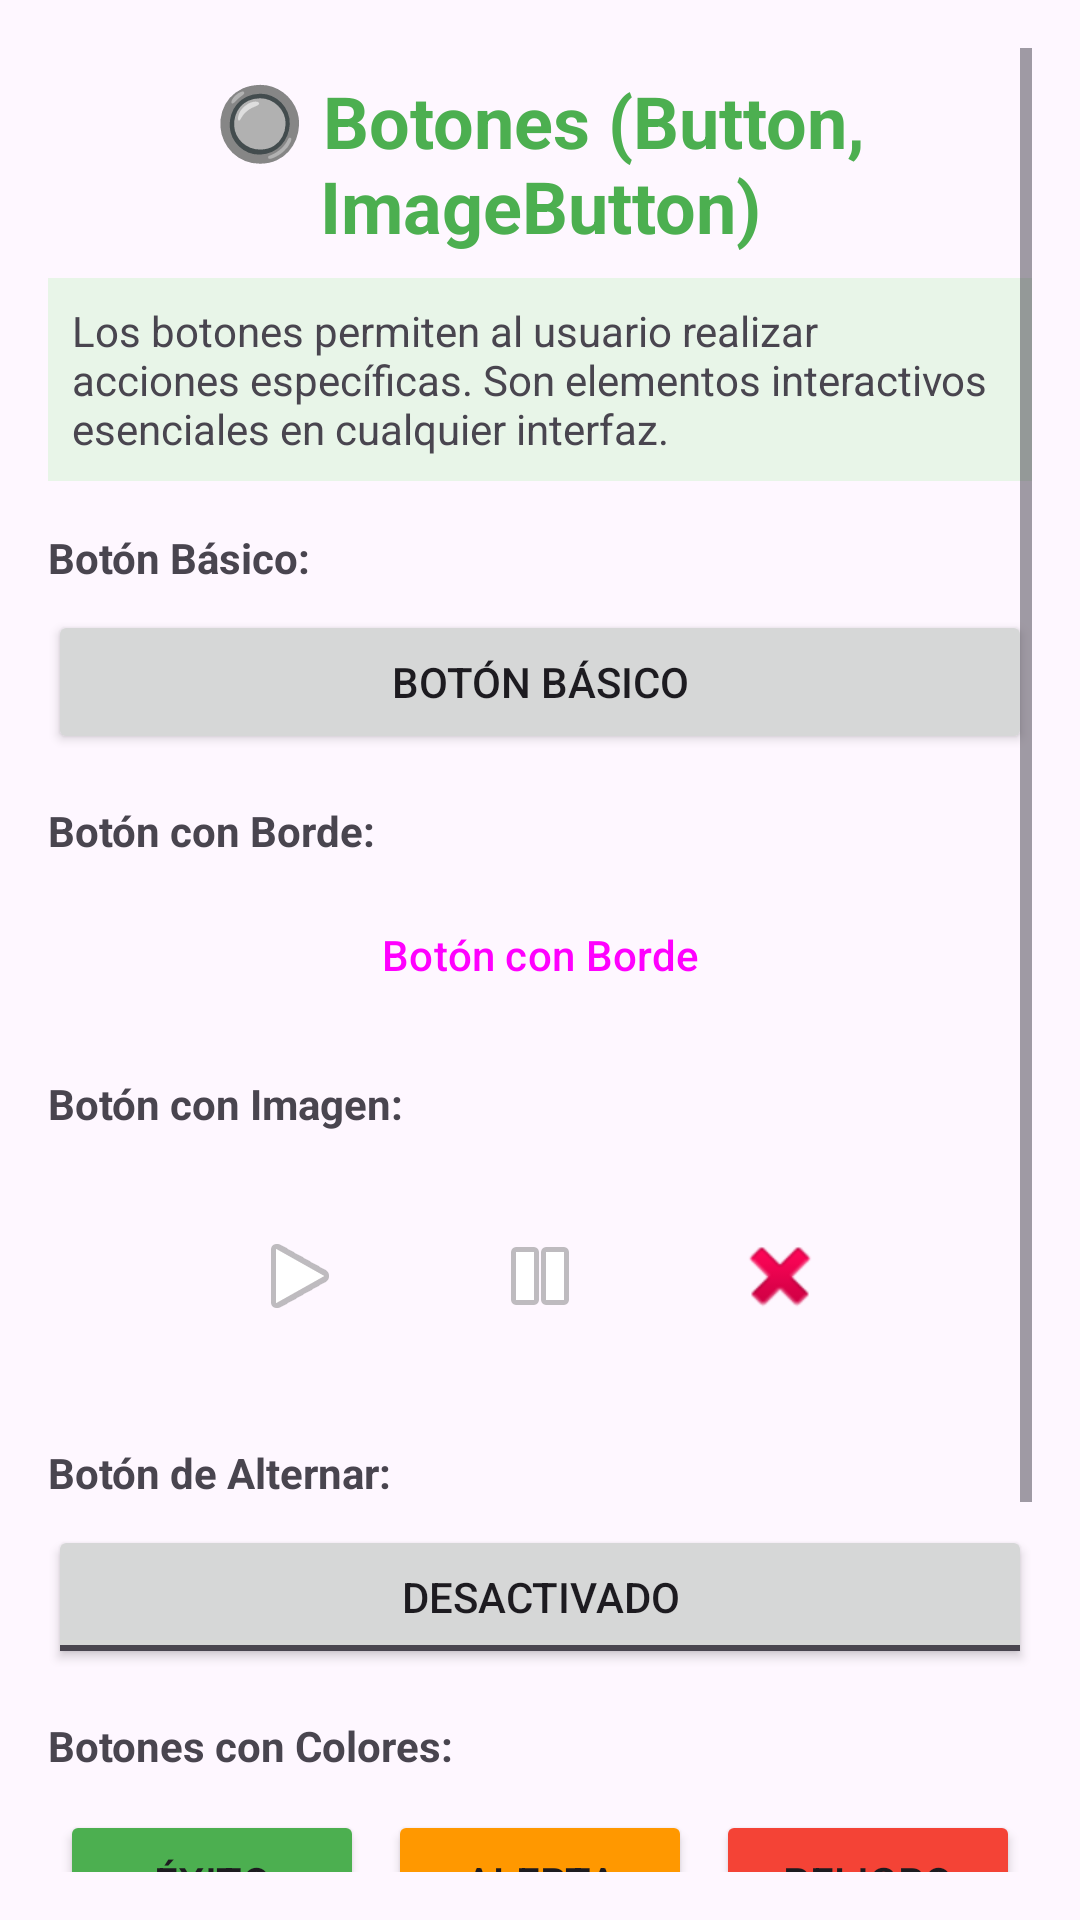

Screen size 1080px x 1920px. Icon name, then its center in pixels as [x,y]:
Pausar: [540,1276]
Reproducir: [300,1276]
